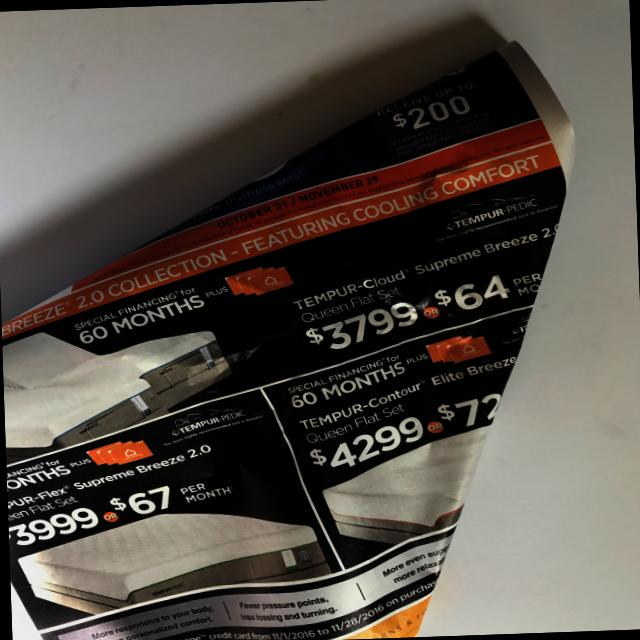Paper: (0, 20, 637, 640)
